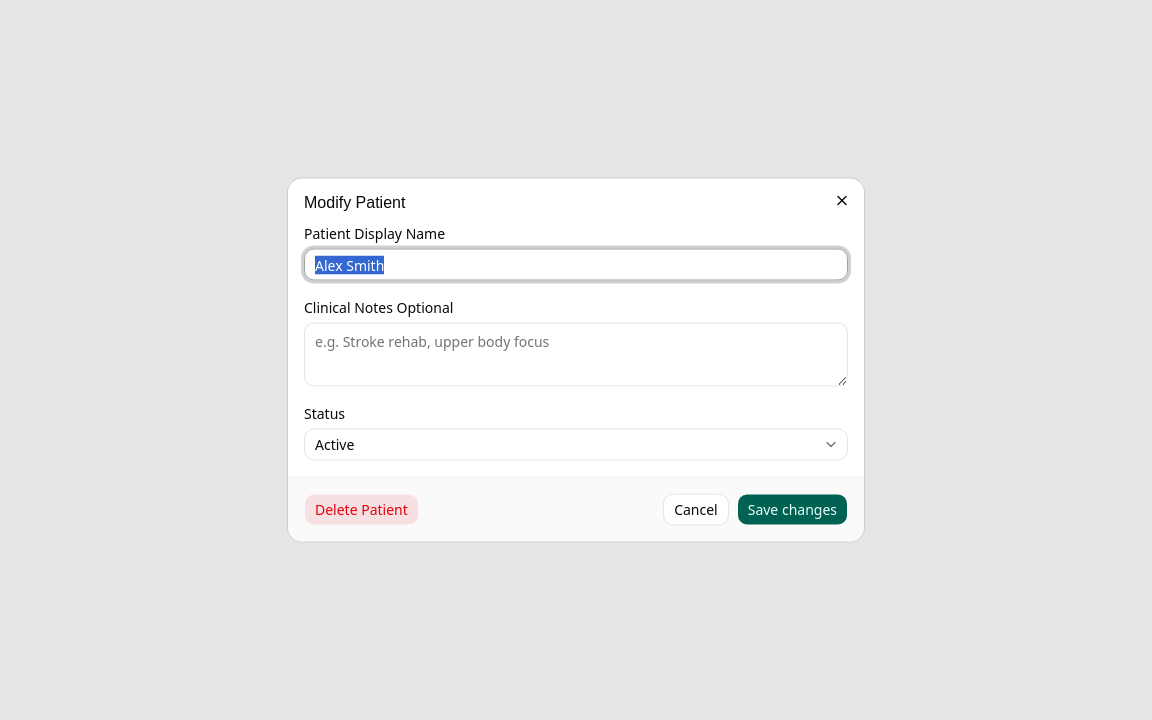
Test: ModifyPatientDialog › saving › falls back to a generic message for a non-error rejection
Step 1. Click the button "Save changes" → [792, 510], box [737, 494, 848, 526]
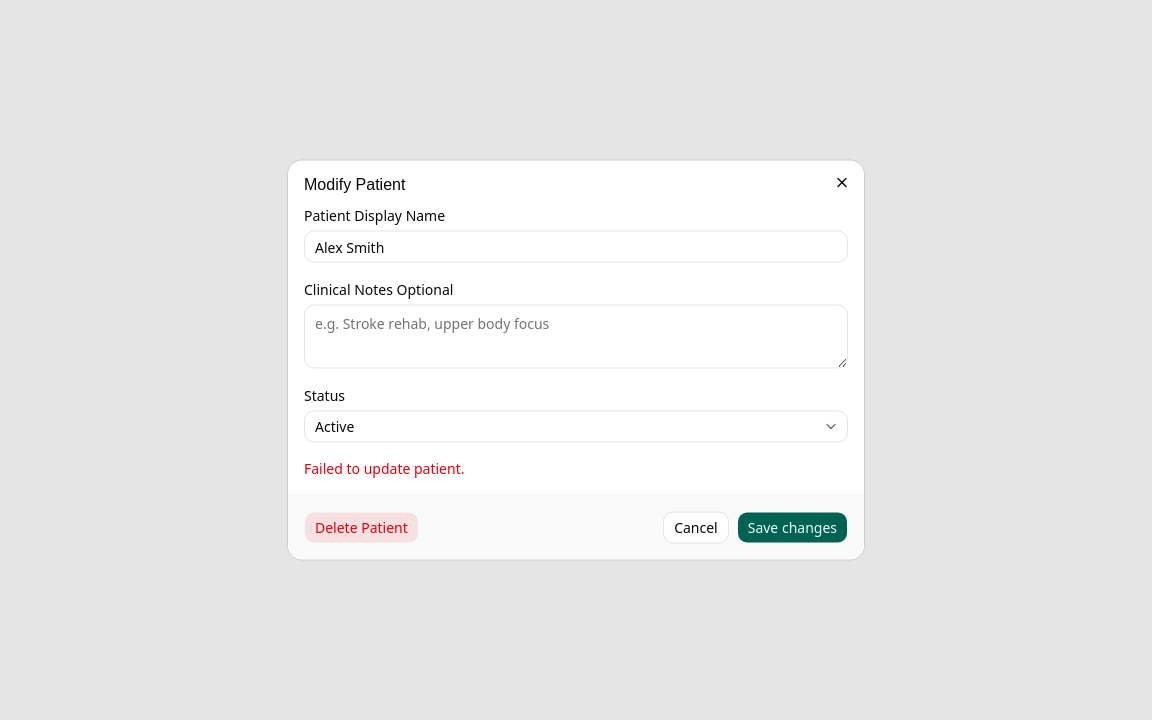
Expected: the message reads "Failed to update patient.", [304, 458, 464, 478]
